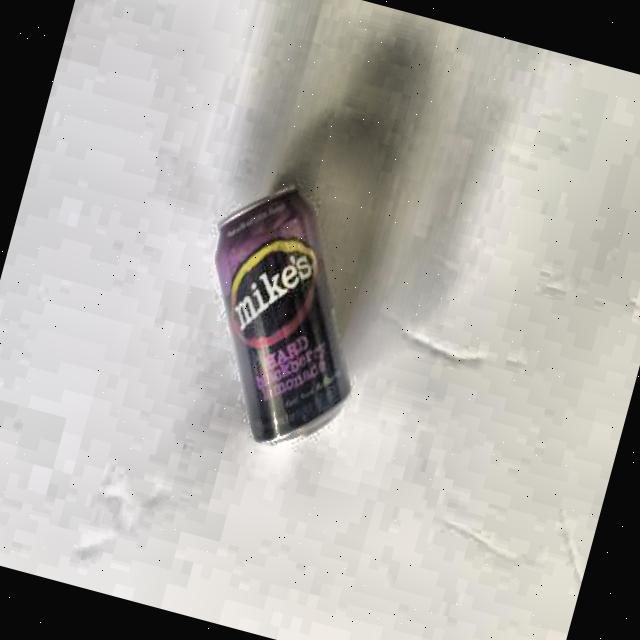metal: (162, 167, 400, 467)
